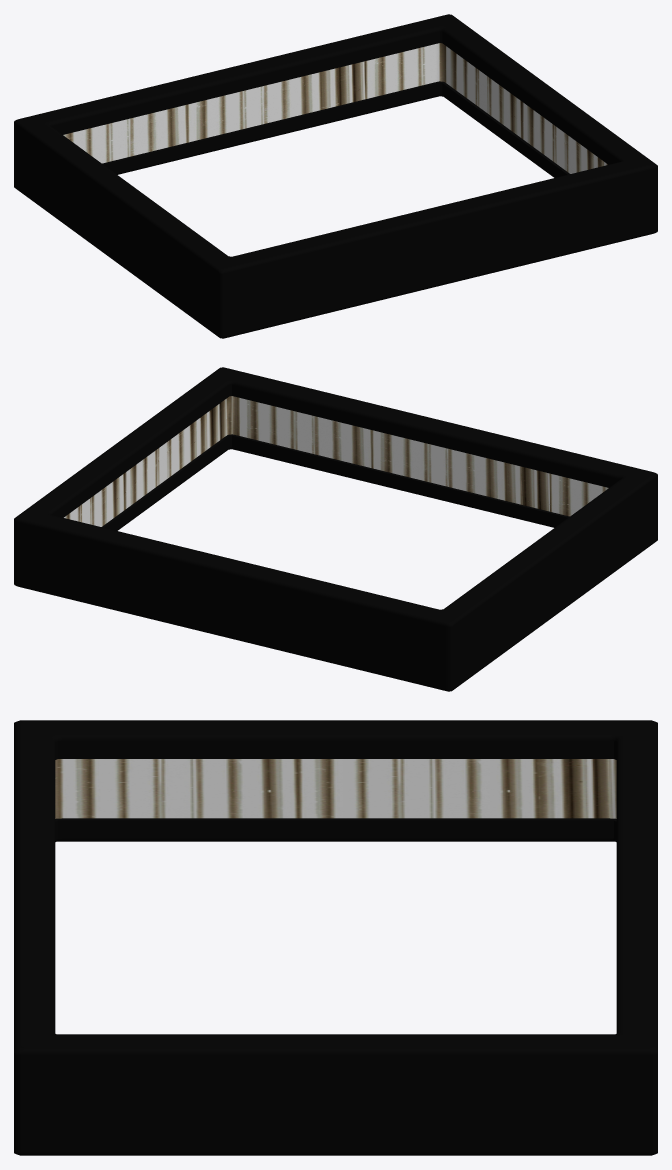
The model's file is SM_WallLight_008.FBX.
3 renders of one model, top to bottom at view 1: azimuth 30°, elevation 25°; view 2: azimuth 150°, elevation 25°; view 3: azimuth 270°, elevation 25°, orthographic. The views are drawn at different scales.
Visible parts, largest first — view 1: SM_WallLight_008; view 2: SM_WallLight_008; view 3: SM_WallLight_008.
Part boxes in pixels (x1,y1,x2,y2): SM_WallLight_008: [14, 14, 657, 338]; SM_WallLight_008: [14, 367, 657, 691]; SM_WallLight_008: [14, 720, 657, 1155].
Size of the model in its own units: 28 by 22.99 by 4.19.
